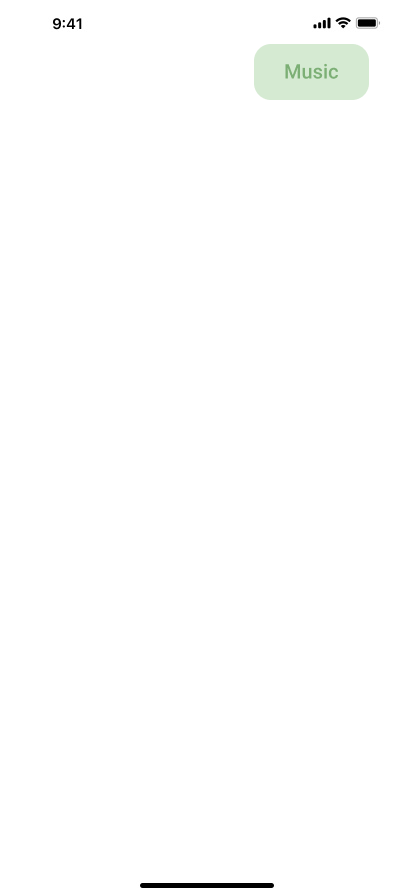Buttons: (254, 44, 377, 100)
Home Indicator: (0, 862, 414, 896)
Status Bar: (0, 0, 414, 44)
